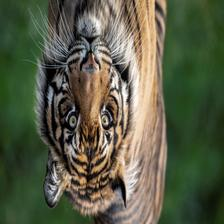tiger: (32, 0, 162, 222)
